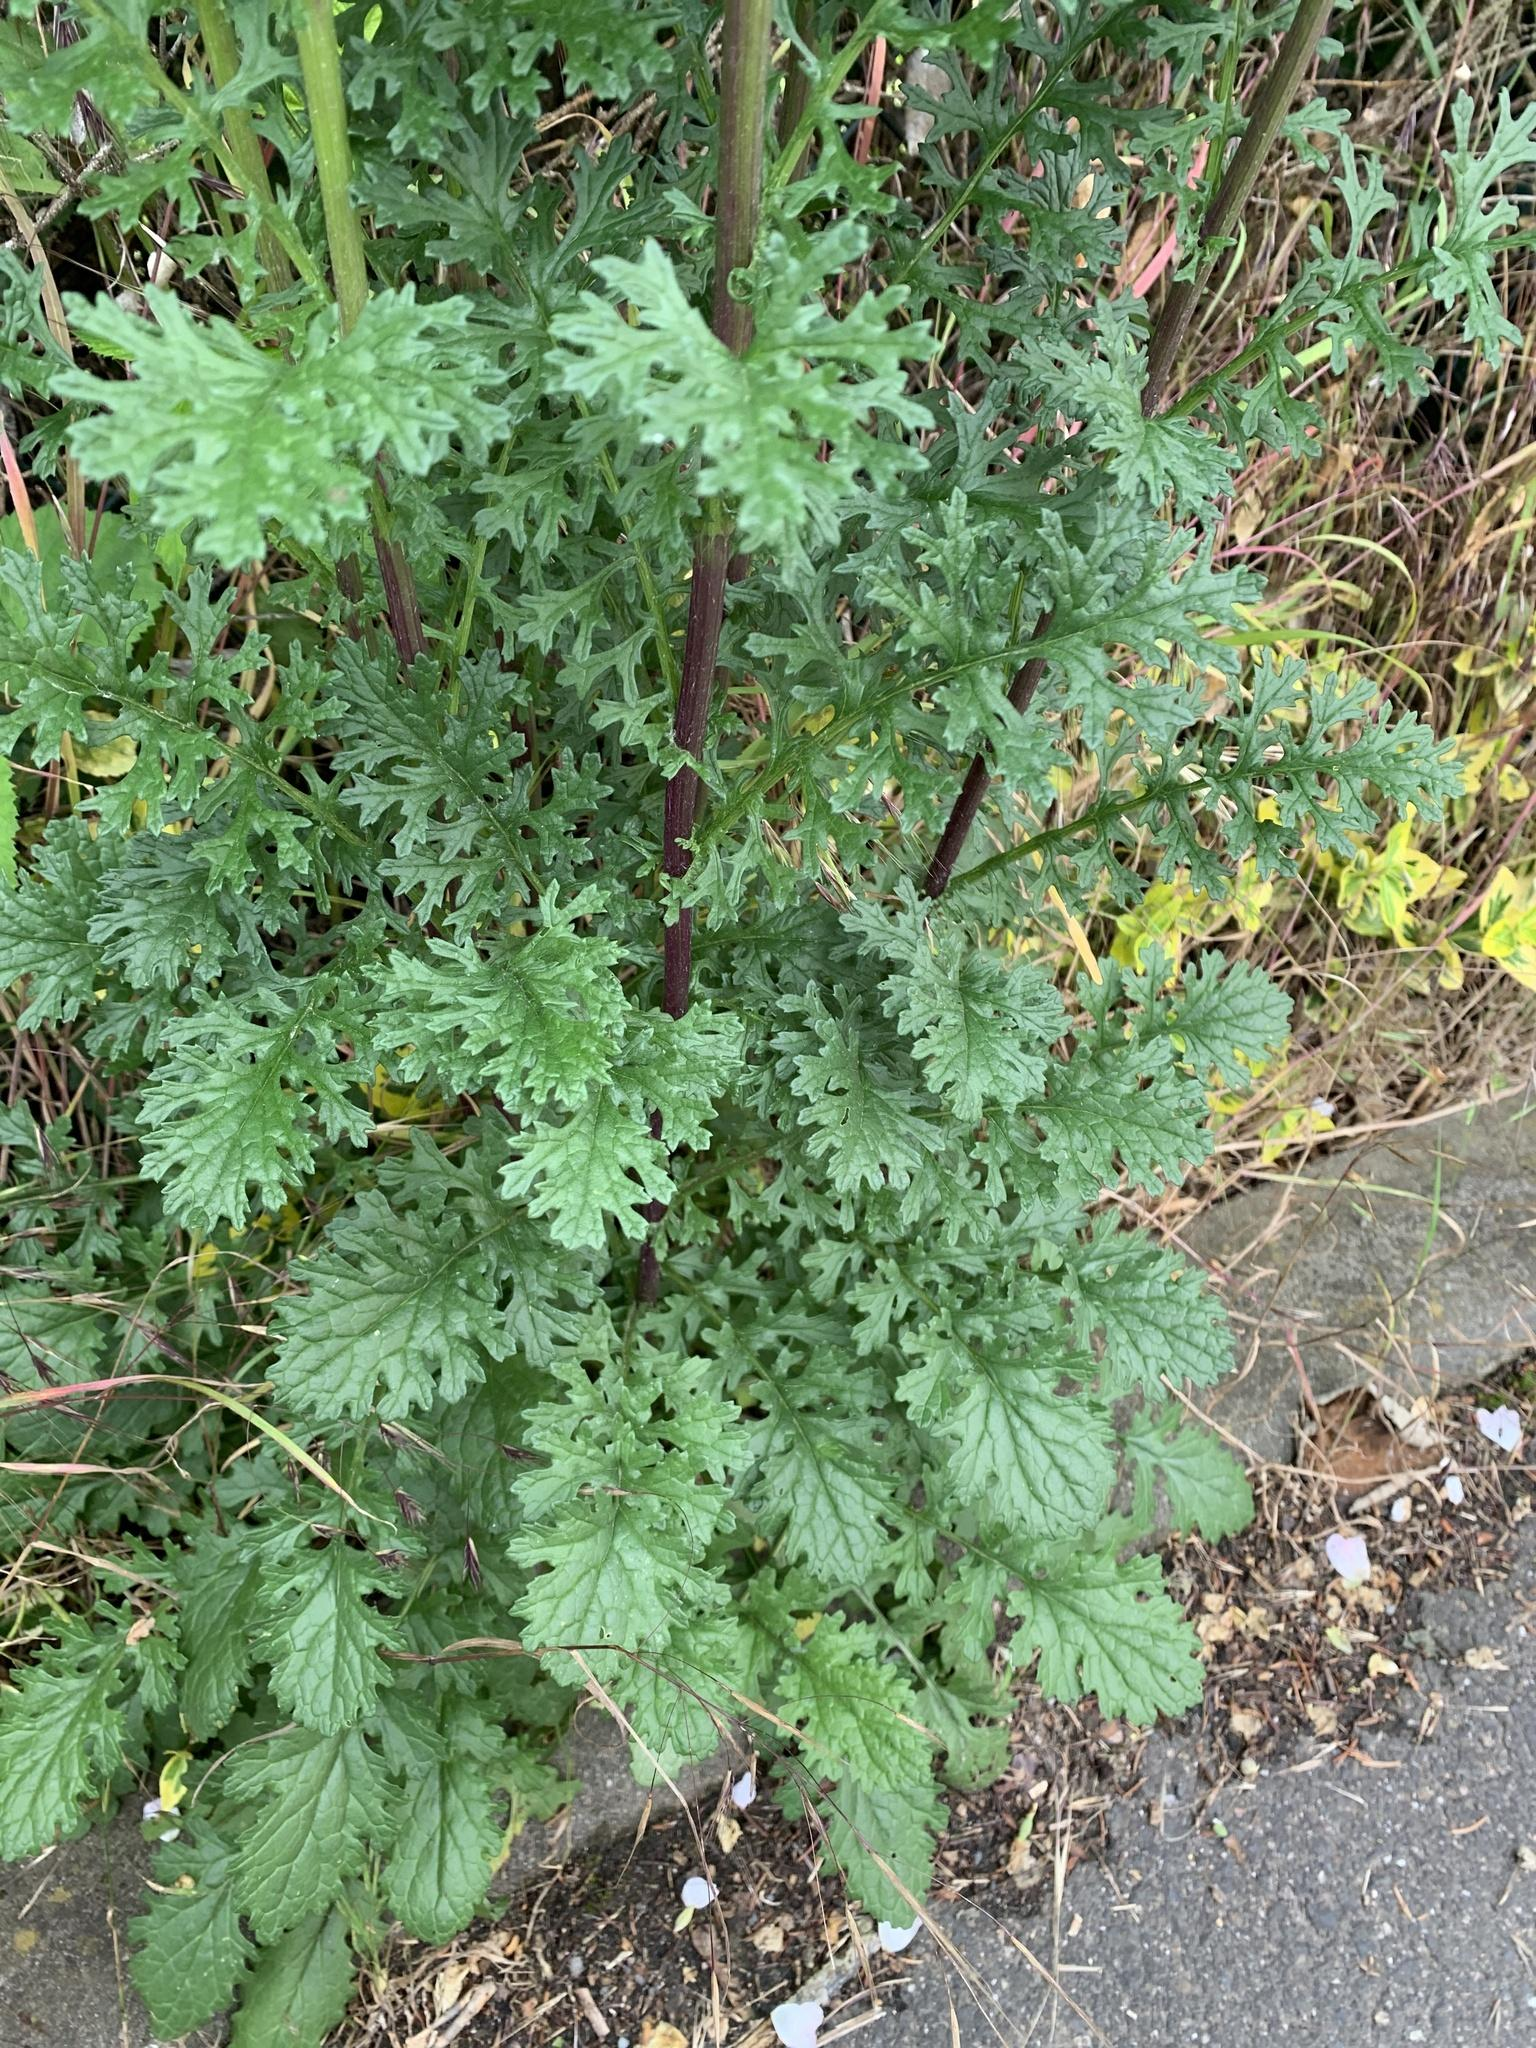Jacobaea vulgaris: (0, 0, 1476, 1974)
